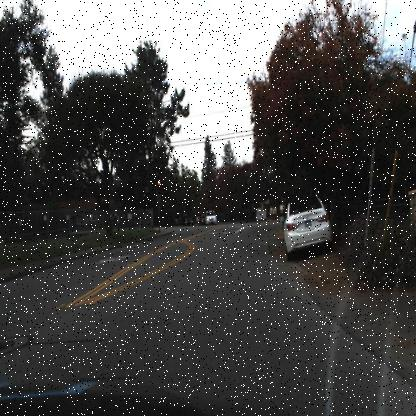car: (278, 184, 335, 263), (204, 206, 219, 230), (182, 211, 196, 227), (198, 209, 208, 227)
trafficLight-Red: (140, 188, 148, 204), (155, 175, 162, 191), (156, 180, 161, 194)
